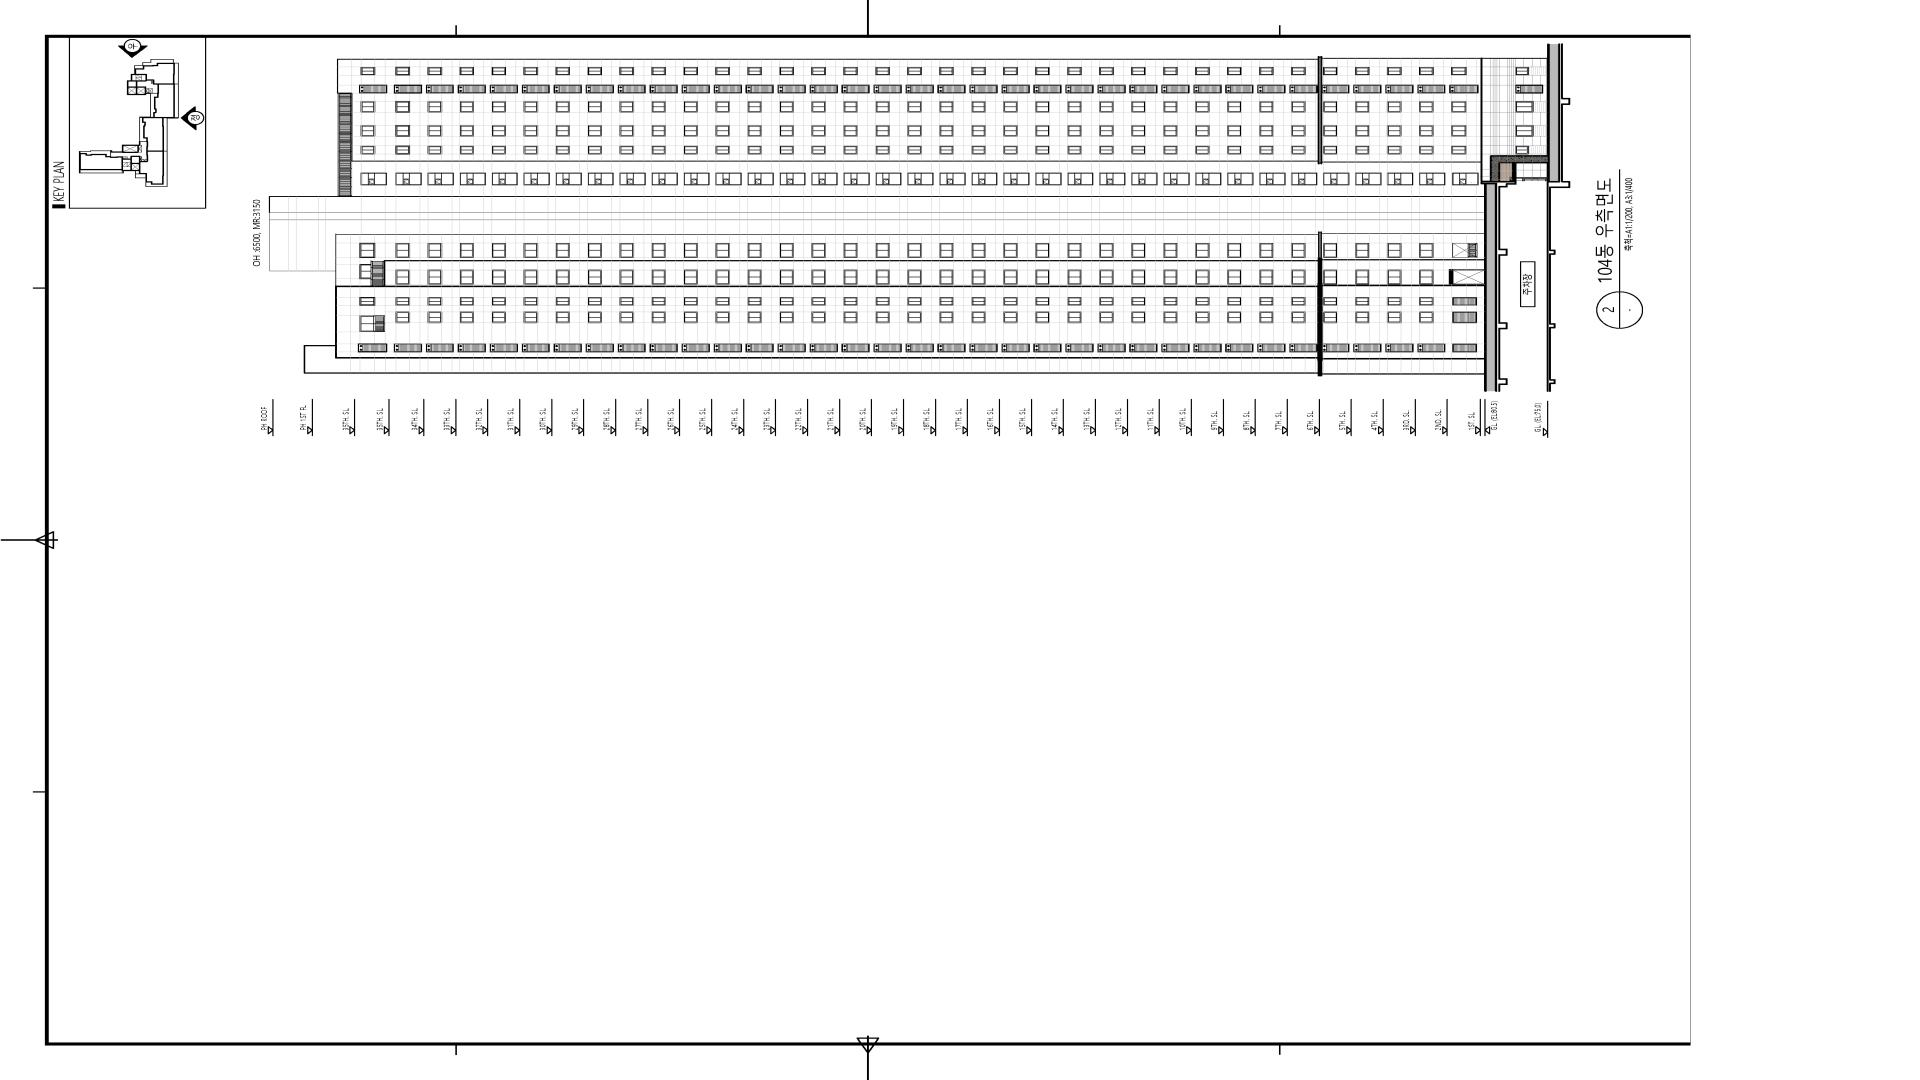door: (1452, 269, 1484, 284)
wall: (269, 58, 1570, 374)
window: (359, 315, 385, 332), (1452, 243, 1477, 258), (1195, 172, 1221, 185), (1323, 172, 1349, 185), (1419, 173, 1445, 186), (360, 173, 387, 185), (395, 173, 422, 185), (427, 173, 454, 185), (460, 173, 486, 185), (492, 173, 518, 185), (524, 173, 550, 185), (556, 173, 582, 185), (588, 173, 614, 185), (620, 173, 646, 185), (652, 173, 678, 185), (684, 173, 710, 185), (716, 173, 742, 185), (748, 173, 774, 185), (780, 173, 806, 185), (811, 173, 837, 185), (844, 173, 870, 185), (876, 173, 902, 185), (907, 173, 933, 185), (940, 173, 966, 185), (972, 173, 998, 185), (1003, 173, 1029, 185), (1036, 173, 1062, 185), (1099, 173, 1125, 185), (1131, 173, 1157, 185), (1164, 173, 1190, 185), (1228, 173, 1254, 185), (1291, 173, 1317, 185), (1355, 173, 1381, 185), (1387, 173, 1413, 185), (1452, 173, 1478, 185), (1452, 311, 1477, 323), (1068, 173, 1093, 185), (1260, 173, 1285, 185), (649, 84, 678, 94), (1449, 85, 1479, 94), (969, 343, 998, 352), (1193, 343, 1222, 352), (1417, 343, 1446, 352), (969, 85, 998, 94), (1001, 85, 1030, 94), (1033, 85, 1062, 94), (1065, 85, 1094, 94), (1097, 85, 1126, 94), (1161, 85, 1190, 94), (1193, 85, 1222, 94), (1257, 85, 1286, 94), (1289, 85, 1318, 94), (1385, 85, 1414, 94), (1417, 85, 1446, 94), (358, 343, 387, 352), (457, 343, 486, 352), (745, 343, 774, 352), (553, 85, 582, 94), (745, 85, 774, 94), (841, 85, 870, 94), (873, 85, 902, 94), (937, 85, 966, 94), (906, 343, 934, 352), (937, 343, 965, 352), (1002, 343, 1030, 352), (1033, 343, 1061, 352), (1066, 343, 1094, 352), (1161, 344, 1189, 353), (1225, 343, 1253, 352), (1257, 343, 1285, 352), (1290, 344, 1318, 353), (1385, 343, 1413, 352), (1129, 85, 1157, 94), (1225, 85, 1253, 94), (1321, 85, 1349, 94), (1353, 85, 1381, 94), (1515, 85, 1543, 94), (394, 343, 422, 352), (490, 343, 518, 352), (522, 343, 550, 352), (554, 343, 582, 352), (586, 343, 614, 352), (649, 343, 677, 352), (714, 343, 742, 352), (778, 343, 806, 352), (810, 343, 838, 352), (359, 85, 387, 94), (394, 85, 422, 94), (426, 85, 454, 94), (458, 85, 486, 94), (490, 85, 518, 94), (522, 85, 550, 94), (586, 85, 614, 94), (618, 85, 646, 94), (682, 85, 710, 94), (714, 85, 742, 94), (778, 85, 806, 94), (810, 85, 838, 94), (906, 85, 934, 94), (1322, 343, 1349, 352), (359, 243, 375, 258), (1097, 344, 1126, 352), (1515, 101, 1534, 113), (1515, 125, 1534, 137), (395, 243, 410, 258), (427, 243, 442, 258), (555, 243, 570, 258), (651, 243, 666, 258), (747, 243, 762, 258), (779, 243, 794, 258), (811, 243, 826, 258), (843, 243, 858, 258), (875, 243, 890, 258), (907, 243, 922, 258), (939, 243, 954, 258), (971, 243, 986, 258), (1003, 243, 1018, 258), (1035, 243, 1050, 258), (1067, 243, 1082, 258), (1452, 343, 1477, 352), (1099, 243, 1114, 258), (1163, 243, 1178, 258), (1195, 243, 1210, 258), (1227, 243, 1242, 258), (1291, 243, 1306, 258), (874, 344, 902, 352), (1129, 344, 1157, 352), (1353, 344, 1381, 352), (426, 344, 454, 352), (618, 344, 646, 352), (682, 344, 710, 352), (842, 344, 870, 352), (460, 243, 474, 258), (492, 243, 506, 258), (524, 243, 538, 258), (588, 243, 602, 258), (620, 243, 634, 258), (684, 243, 698, 258), (716, 243, 730, 258), (1131, 270, 1145, 285), (1419, 270, 1434, 284), (1131, 243, 1145, 258), (1259, 243, 1273, 258), (1323, 243, 1337, 258), (1355, 243, 1369, 258), (1387, 243, 1401, 258), (1419, 243, 1433, 258), (395, 270, 410, 284), (651, 270, 666, 284), (843, 270, 858, 284), (939, 270, 954, 284), (971, 270, 986, 284), (1035, 270, 1050, 284), (1067, 270, 1082, 284), (1452, 297, 1477, 305), (1164, 270, 1178, 284), (1195, 270, 1209, 284), (1227, 270, 1241, 284), (1259, 270, 1273, 284), (1291, 270, 1305, 284), (1323, 270, 1337, 284), (1355, 270, 1369, 284), (1387, 270, 1401, 284), (428, 270, 442, 284), (460, 270, 474, 284), (492, 270, 506, 284), (524, 270, 538, 284), (556, 270, 570, 284), (588, 270, 602, 284), (620, 270, 634, 284), (684, 270, 698, 284), (715, 270, 729, 284), (748, 270, 762, 284), (780, 270, 794, 284), (811, 270, 825, 284), (876, 270, 890, 284), (907, 270, 921, 284), (1003, 270, 1017, 284), (1099, 270, 1113, 284), (1195, 101, 1210, 113), (1227, 101, 1242, 113), (1259, 101, 1274, 113), (1291, 101, 1306, 113), (1322, 101, 1337, 113), (1355, 101, 1370, 113), (1387, 101, 1402, 113), (1419, 101, 1434, 113), (1452, 101, 1467, 113), (360, 125, 375, 137), (395, 125, 410, 137), (427, 125, 442, 137), (459, 125, 474, 137), (491, 125, 506, 137), (523, 125, 538, 137), (555, 125, 570, 137), (587, 125, 602, 137), (619, 125, 634, 137), (651, 125, 666, 137), (683, 125, 698, 137), (715, 125, 730, 137), (747, 125, 762, 137), (779, 125, 794, 137), (811, 125, 826, 137), (843, 125, 858, 137), (875, 125, 890, 137), (907, 125, 922, 137), (939, 125, 954, 137), (971, 125, 986, 137), (1003, 125, 1018, 137), (1035, 125, 1050, 137), (1067, 125, 1082, 137), (1099, 125, 1114, 137), (1131, 125, 1146, 137), (1163, 125, 1178, 137), (1195, 125, 1210, 137), (1227, 125, 1242, 137), (1259, 125, 1274, 137), (1291, 125, 1306, 137), (1322, 125, 1337, 137), (1355, 125, 1370, 137), (1387, 125, 1402, 137), (1419, 125, 1434, 137), (1451, 125, 1466, 137), (1195, 311, 1210, 323), (1227, 311, 1242, 323), (1259, 311, 1274, 323), (1323, 311, 1338, 323), (1355, 311, 1370, 323), (1387, 311, 1402, 323), (1419, 311, 1434, 323), (360, 101, 375, 113), (395, 101, 410, 113), (427, 101, 442, 113), (459, 101, 474, 113), (523, 101, 538, 113), (555, 101, 570, 113), (587, 101, 602, 113), (619, 101, 634, 113), (651, 101, 666, 113), (683, 101, 698, 113), (715, 101, 730, 113), (747, 101, 762, 113), (779, 101, 794, 113), (811, 101, 826, 113), (843, 101, 858, 113), (907, 101, 922, 113), (875, 101, 890, 113), (939, 101, 954, 113), (971, 101, 986, 113), (1003, 101, 1018, 113), (1035, 101, 1050, 113), (1067, 101, 1082, 113), (1099, 101, 1114, 113), (1131, 101, 1146, 113), (1163, 101, 1178, 113), (359, 264, 371, 279), (395, 311, 410, 323), (427, 311, 442, 323), (459, 311, 474, 323), (523, 311, 538, 323), (555, 311, 570, 323), (587, 311, 602, 323), (619, 311, 634, 323), (651, 311, 666, 323), (683, 311, 698, 323), (715, 311, 730, 323), (747, 311, 762, 323), (779, 311, 794, 323), (811, 311, 826, 323), (843, 311, 858, 323), (875, 311, 890, 323), (907, 311, 922, 323), (939, 311, 954, 323), (971, 311, 986, 323), (1003, 311, 1018, 323), (1035, 311, 1050, 323), (1067, 311, 1082, 323), (1099, 311, 1114, 323), (1131, 311, 1146, 323), (1163, 311, 1178, 323), (492, 101, 506, 113), (492, 311, 506, 323), (1291, 312, 1306, 323), (359, 297, 375, 306), (395, 297, 410, 306), (427, 297, 442, 306), (360, 146, 375, 155), (843, 146, 858, 155), (907, 146, 922, 155), (939, 146, 954, 155), (1067, 146, 1082, 155), (1099, 146, 1114, 155), (1163, 146, 1178, 155), (1195, 146, 1210, 155), (1259, 146, 1274, 155), (1355, 146, 1370, 155), (1451, 67, 1467, 75), (492, 297, 506, 306), (460, 146, 474, 155), (492, 146, 506, 155), (524, 146, 538, 155), (556, 146, 570, 155), (588, 146, 602, 155), (684, 146, 698, 155), (716, 146, 730, 155), (748, 146, 762, 155), (780, 146, 794, 155), (812, 146, 826, 155), (876, 146, 890, 155), (972, 146, 986, 155), (1227, 146, 1241, 155), (1323, 146, 1337, 155), (1387, 146, 1401, 155), (1452, 146, 1466, 155), (395, 67, 410, 75), (491, 67, 506, 75), (523, 67, 538, 75), (619, 67, 634, 75), (651, 67, 666, 75), (747, 67, 762, 75), (715, 67, 730, 75), (779, 67, 794, 75), (811, 67, 826, 75), (843, 67, 858, 75), (875, 67, 890, 75), (907, 67, 922, 75), (939, 67, 954, 75), (971, 67, 986, 75), (1003, 67, 1018, 75), (1035, 67, 1050, 75), (1067, 67, 1082, 75), (1099, 67, 1114, 75), (1131, 67, 1146, 75), (1163, 67, 1178, 75), (1195, 67, 1210, 75), (1227, 67, 1242, 75), (459, 297, 474, 305), (715, 297, 730, 305), (747, 297, 762, 305), (779, 297, 794, 305), (939, 297, 954, 305), (1003, 297, 1018, 305), (1067, 297, 1082, 305), (1099, 297, 1114, 305), (395, 146, 410, 154), (427, 146, 442, 154), (619, 146, 634, 154), (651, 146, 666, 154), (1003, 146, 1018, 154), (1035, 146, 1050, 154), (1259, 67, 1274, 75), (1291, 67, 1306, 75), (1355, 67, 1370, 75), (1387, 67, 1402, 75), (1419, 67, 1434, 75), (1163, 297, 1178, 305), (1259, 297, 1274, 305), (1291, 297, 1306, 305), (1419, 297, 1434, 305), (361, 67, 375, 75), (428, 67, 442, 75), (460, 67, 474, 75), (556, 67, 570, 75), (588, 67, 602, 75), (684, 67, 698, 75), (524, 297, 538, 305), (556, 297, 570, 305), (588, 297, 602, 305), (620, 297, 634, 305), (652, 297, 666, 305), (684, 297, 698, 305), (812, 297, 826, 305), (844, 297, 858, 305), (876, 297, 890, 305), (908, 297, 922, 305), (972, 297, 986, 305), (1035, 297, 1049, 305), (1131, 297, 1145, 305), (1131, 146, 1145, 154), (1291, 146, 1305, 154), (1419, 146, 1433, 154), (1515, 146, 1529, 154), (1323, 67, 1337, 75), (1515, 67, 1529, 75), (1195, 297, 1209, 305), (1227, 297, 1241, 305), (1323, 297, 1337, 305), (1355, 297, 1369, 305), (1387, 297, 1401, 305)
